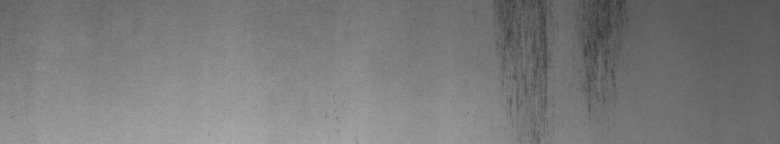ka: (497, 4, 622, 112)
